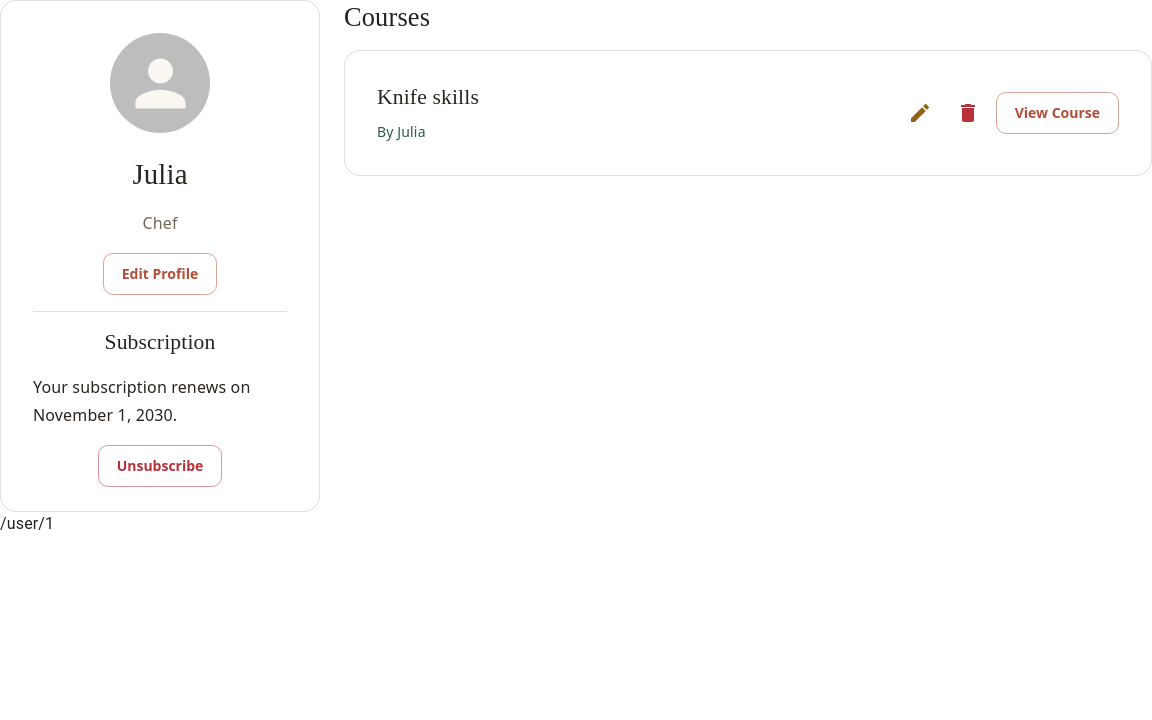
Test case: cancellation errors keep the confirmation open for retry
Click the button "Unsubscribe": [160, 466] box [98,445,222,487]
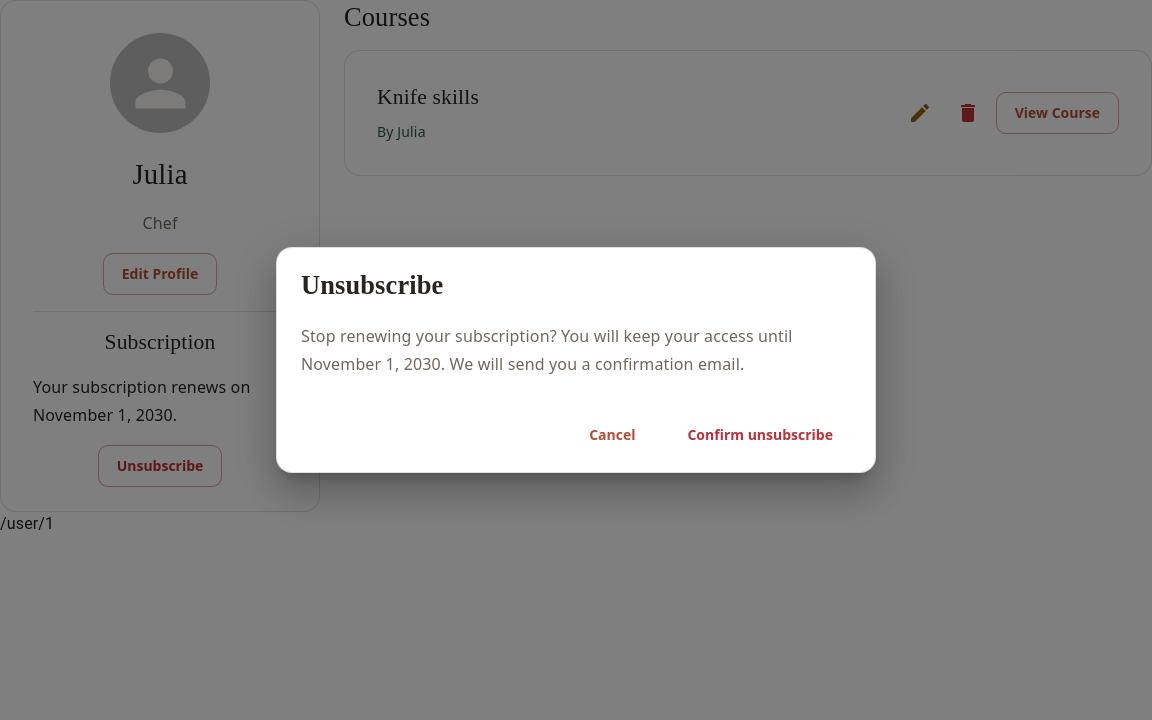
Click the button "Confirm unsubscribe": [760, 435] box [670,414,851,456]
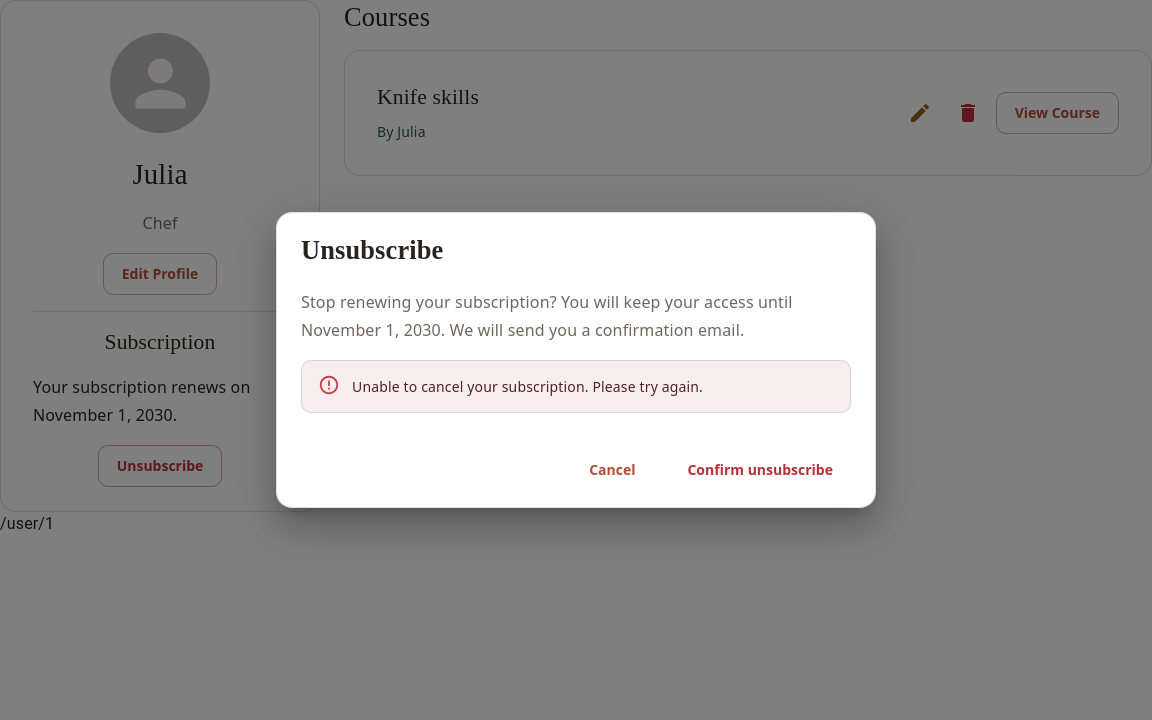
Result: the dialog is shown at [276,212,876,508]
Result: the text "Unable to cancel your subscription. Please try again." is shown at [352,377,703,396]
Click the button "Confirm unsubscribe": [760, 470] box [670,449,851,491]
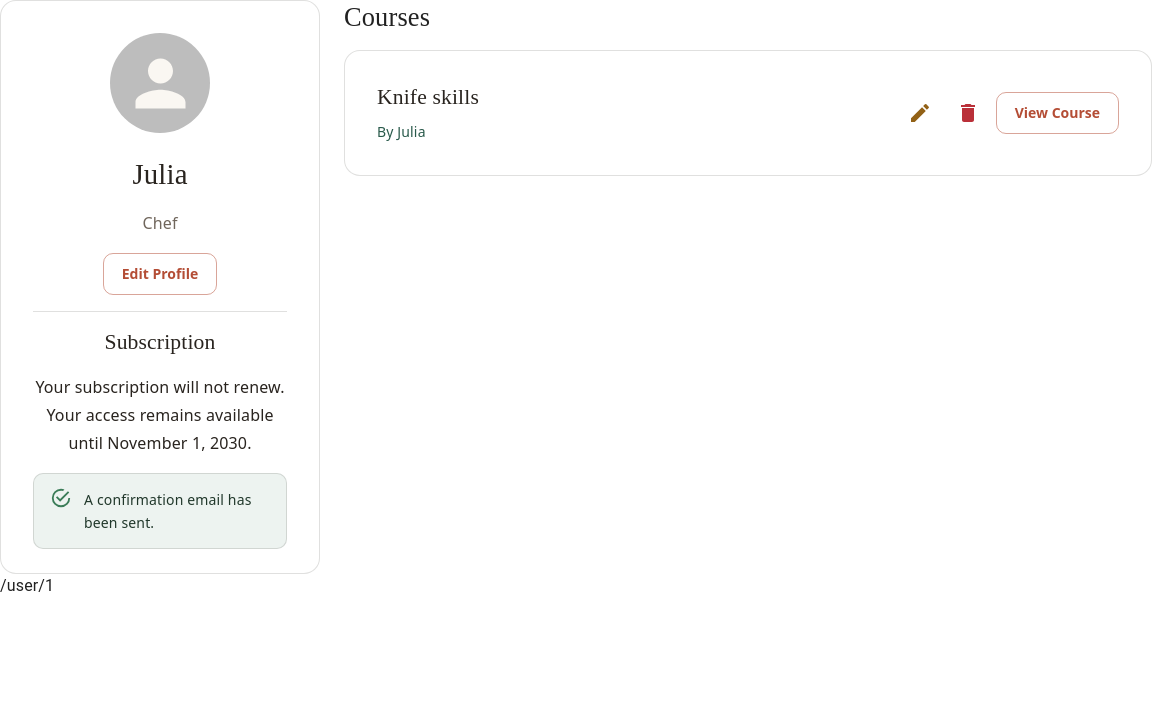
Result: the text "A confirmation email has been sent." is shown at [84,480,270,542]
